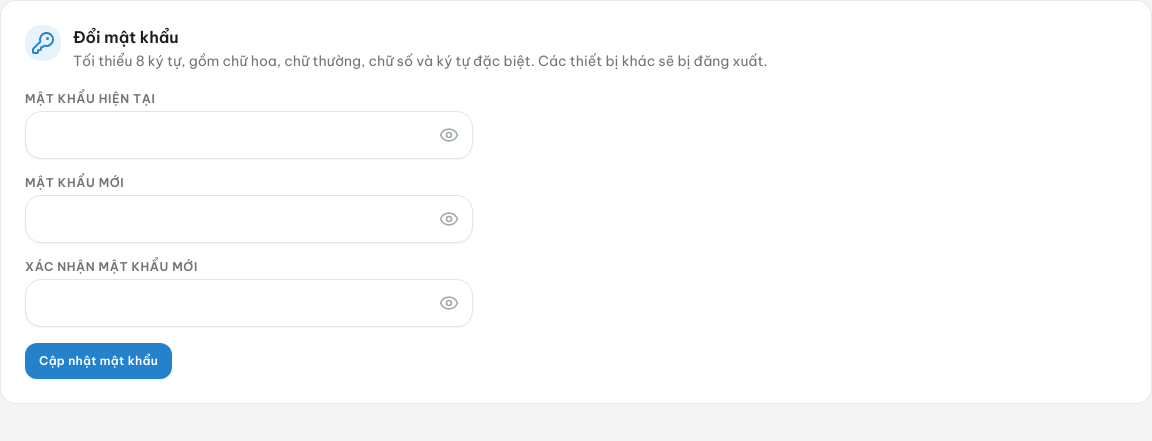
Test case: ChangePasswordCard › shows the server error inline under the current password field on 401
Type "Wrong@123" into the password field labelled "Mật khẩu hiện tại" at (249, 135), box [25, 111, 473, 159]
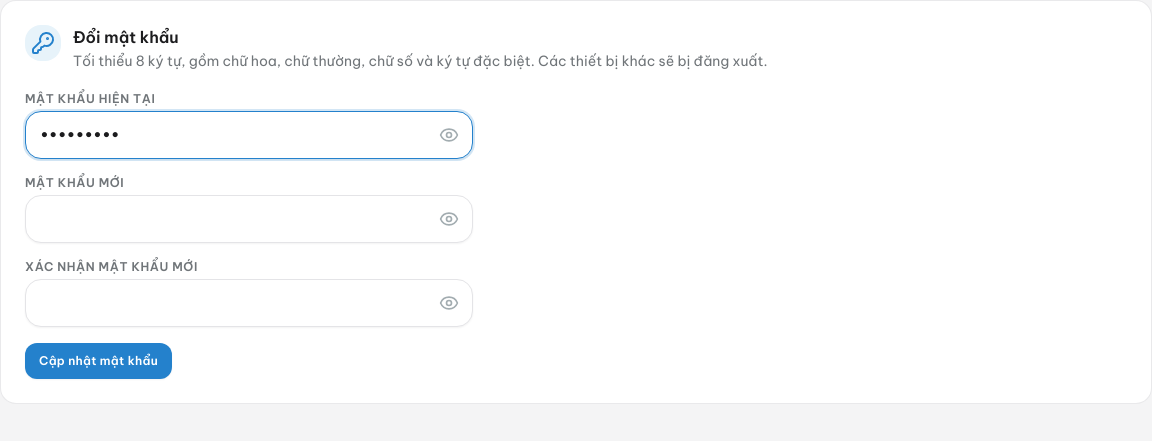
Type "NewPass@2" into the password field labelled "Mật khẩu mới" at (249, 219), box [25, 195, 473, 243]
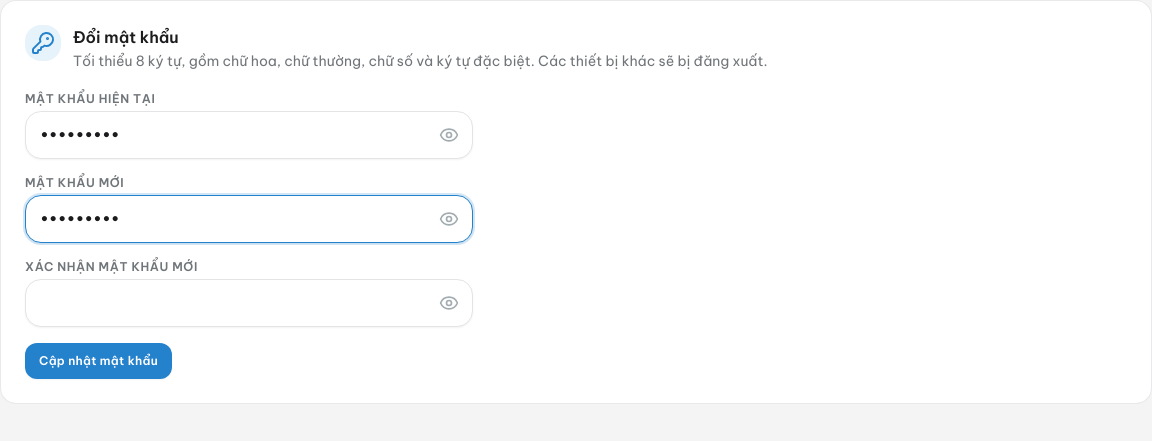
Type "NewPass@2" into the password field labelled "Xác nhận mật khẩu mới" at (249, 303), box [25, 279, 473, 327]
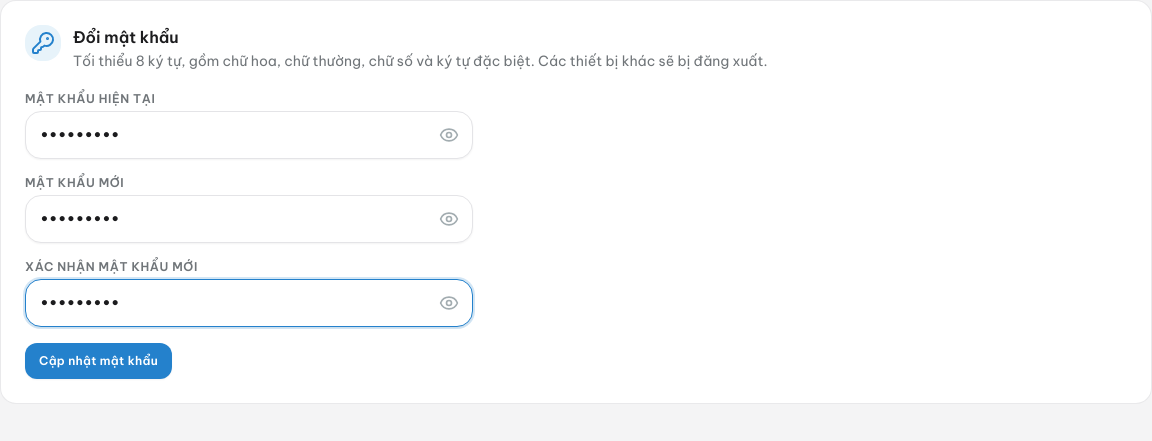
Click the button "Cập nhật mật khẩu" at (98, 361), box [25, 343, 172, 379]
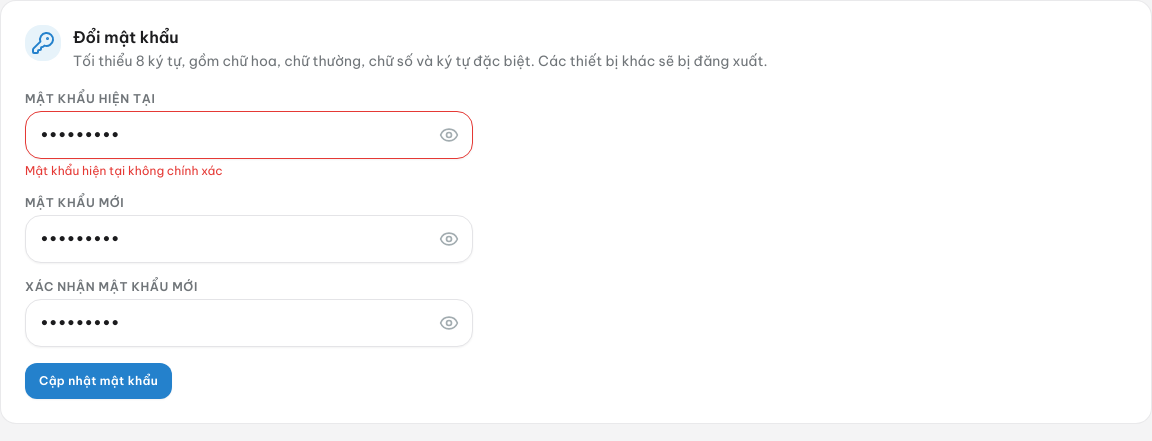
Expected: the text "Mật khẩu hiện tại không chính xác" is shown, [25, 163, 223, 178]
